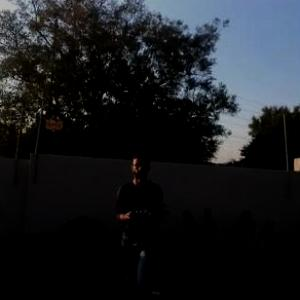follow: (109, 149, 169, 299)
